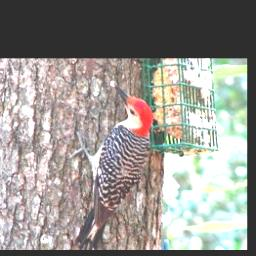Woodpecker: (64, 81, 152, 249)
